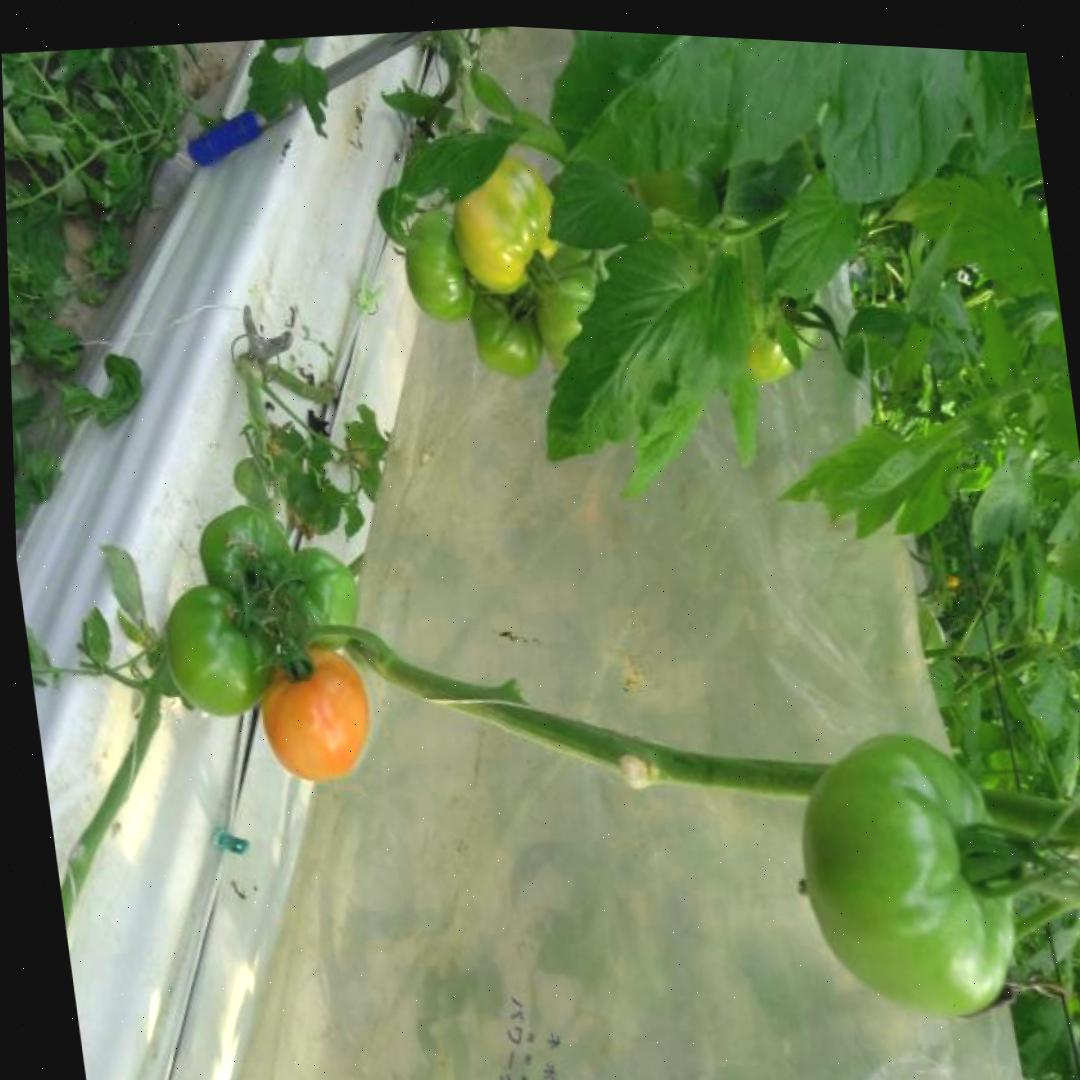matang: (255, 640, 376, 789)
mentah: (781, 713, 1034, 1041), (156, 577, 278, 730), (266, 542, 365, 654), (393, 202, 475, 331)
setengah_matang: (443, 146, 568, 303)
